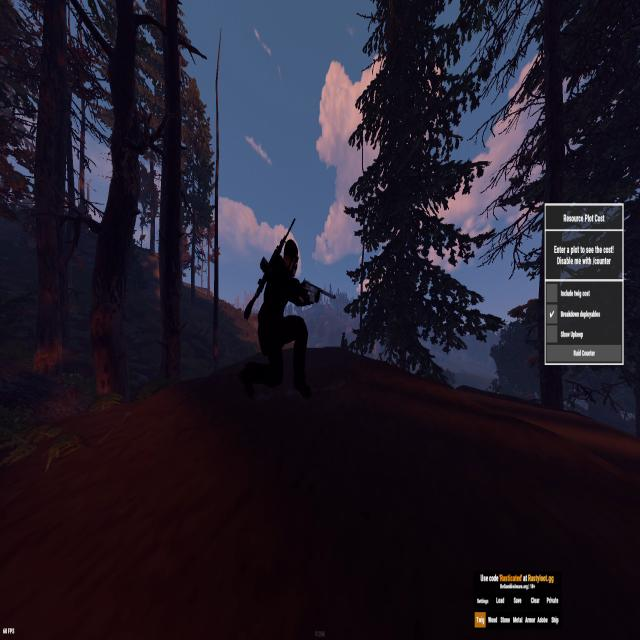Player: (233, 229, 320, 407)
